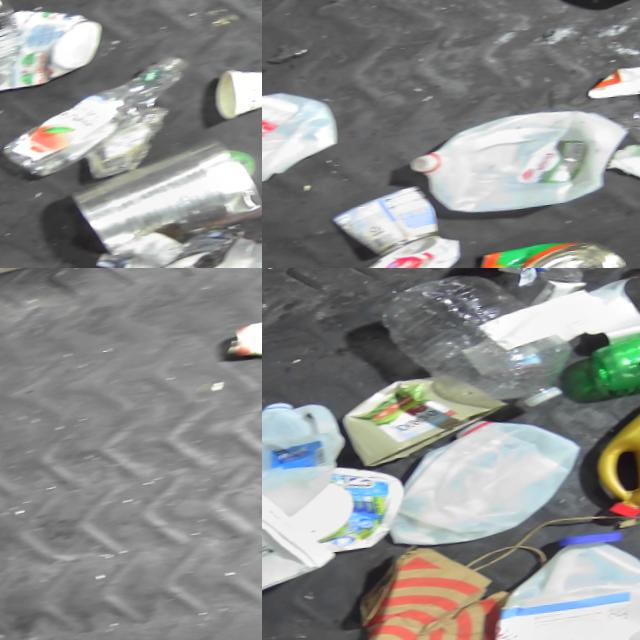can: (491, 236, 640, 268), (226, 308, 262, 365)
milk_jug: (400, 405, 604, 551), (416, 109, 638, 227), (496, 526, 640, 640), (262, 84, 352, 207), (262, 396, 352, 510)
non_white_jug: (585, 376, 640, 532)
plastic_bottle: (369, 268, 593, 441), (8, 54, 205, 179), (0, 0, 37, 96)
